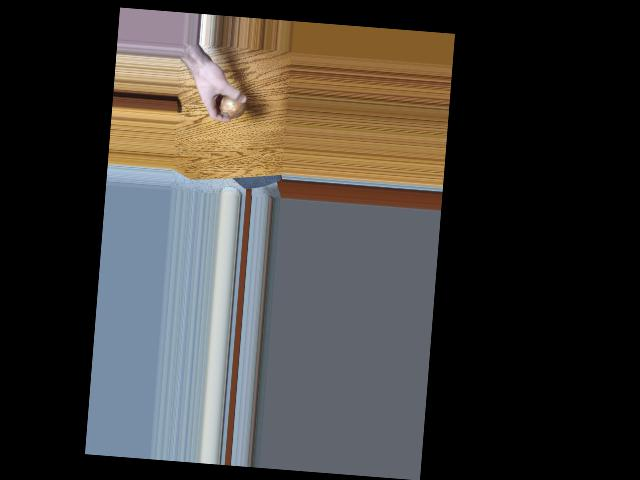onion: (219, 91, 245, 119)
